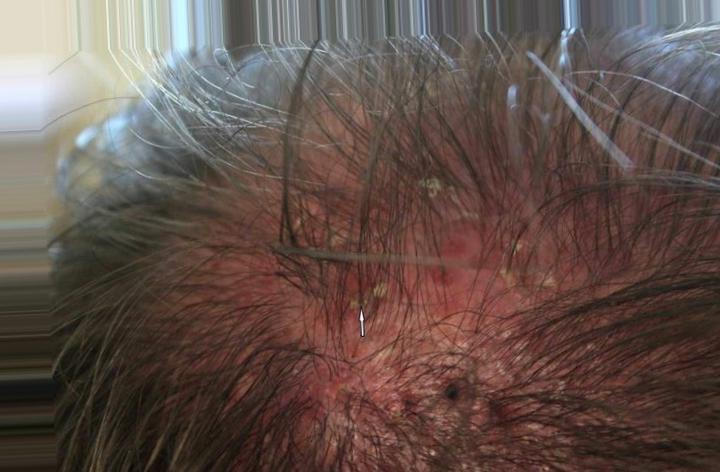Folliculitis: (258, 176, 508, 438)
